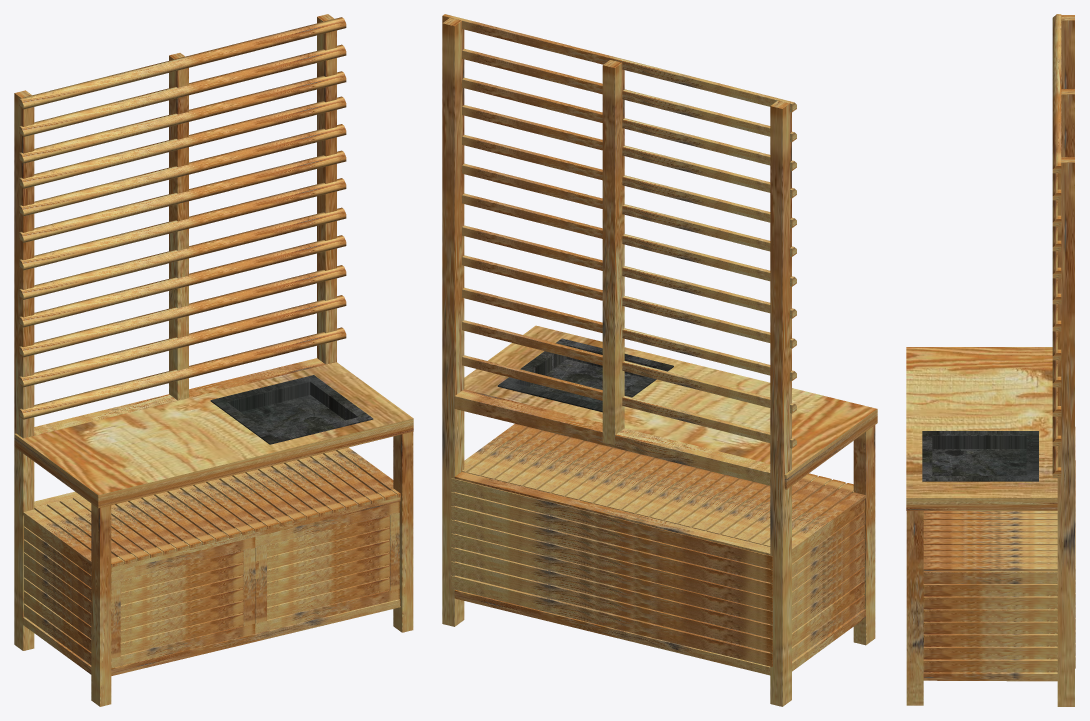
The model's file is movelJardinagem.gltf.
3 views of the same model, side by side, from view 1: azimuth 30°, elevation 25°; view 2: azimuth 150°, elevation 25°; view 3: azimuth 270°, elevation 25° (orthographic). The views are drawn at different scales.
Visible parts, largest first — view 1: horizontalWood, verticalPoles, Cube.023, topSide, righhDoor, leftDoor, Cube.027, leftSide, sink; view 2: leftSide, horizontalWood, verticalPoles, topSide, Cube.023, Cube.027, sink; view 3: Cube.023, verticalPoles, rightSide, topSide, sink, horizontalWood, Cube.027.
Boxes of the visible parts, box(x1,y1,x2,y2) form: horizontalWood: box(19, 17, 346, 419); verticalPoles: box(14, 14, 413, 706); Cube.023: box(14, 362, 413, 508); topSide: box(23, 447, 400, 567); righhDoor: box(255, 502, 399, 633); leftDoor: box(111, 537, 255, 668); Cube.027: box(23, 358, 400, 675); leftSide: box(24, 516, 91, 664); sink: box(210, 375, 373, 444); leftSide: box(451, 478, 864, 666); horizontalWood: box(442, 14, 796, 448); verticalPoles: box(442, 18, 875, 706); topSide: box(461, 423, 865, 552); Cube.023: box(464, 325, 877, 489); Cube.027: box(454, 389, 865, 675); sink: box(497, 338, 673, 412); Cube.023: box(906, 347, 1057, 510); verticalPoles: box(906, 15, 1074, 706); rightSide: box(923, 571, 1057, 672); topSide: box(923, 511, 1057, 571); sink: box(922, 431, 1038, 481); horizontalWood: box(1052, 14, 1061, 477); Cube.027: box(923, 672, 1057, 681).
Bounding box in the file's own units: 6.78 × 11.13 × 3.13.
Materials: 17 (17 with a texture image).
